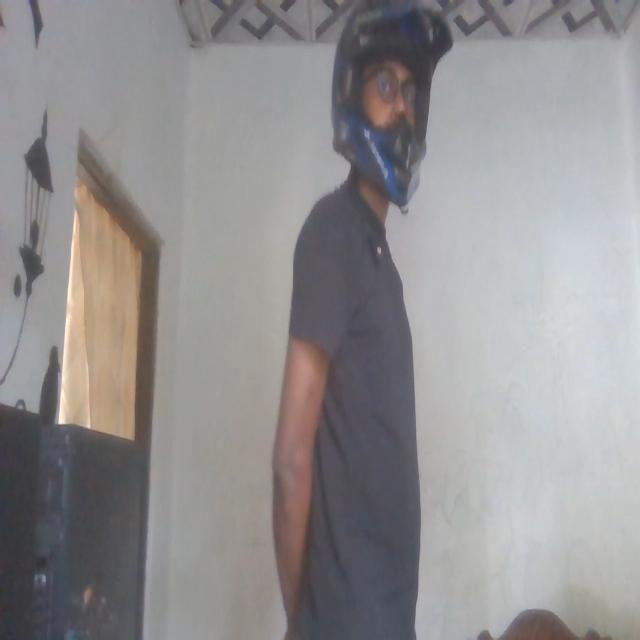Helmet_Wearer: (326, 3, 444, 201)
Person: (273, 0, 465, 640)
